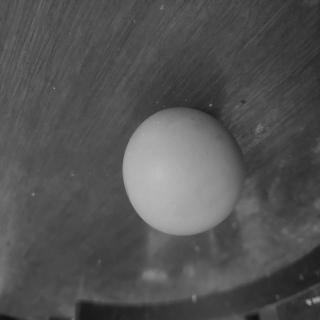Telur: (120, 106, 250, 238)
